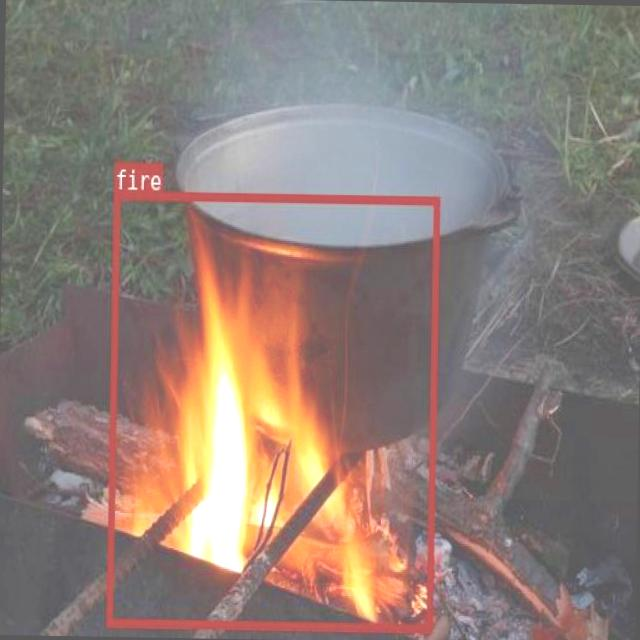fire: (105, 188, 438, 630)
